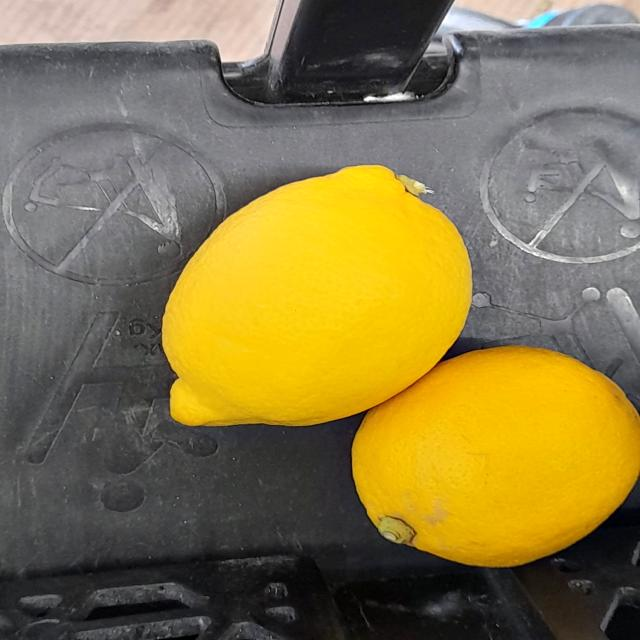lemon: (141, 140, 479, 428), (325, 324, 640, 567)
